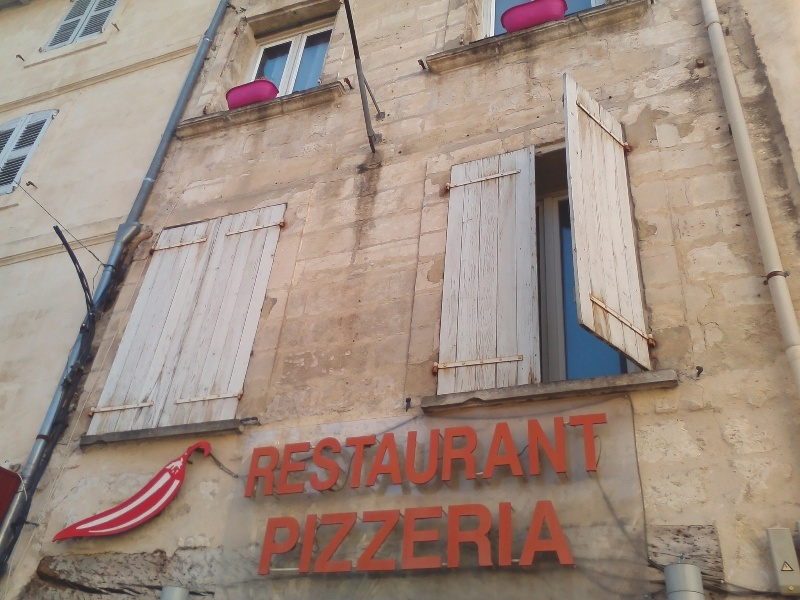text: (257, 409, 272, 502), (273, 409, 288, 502), (289, 409, 304, 502), (305, 409, 320, 502), (321, 409, 336, 502), (337, 409, 352, 502), (353, 409, 368, 502), (369, 409, 384, 502), (385, 409, 400, 502), (401, 409, 416, 502), (417, 409, 432, 502), (433, 409, 448, 502), (449, 409, 464, 502), (465, 409, 480, 502), (481, 409, 496, 502), (497, 409, 512, 502), (513, 409, 528, 502), (529, 409, 544, 502), (545, 409, 560, 502), (561, 409, 576, 502), (577, 409, 592, 502), (593, 409, 608, 502), (273, 496, 288, 578), (289, 496, 304, 578), (305, 496, 320, 578), (321, 496, 336, 578), (337, 496, 352, 578), (353, 496, 368, 578), (369, 496, 384, 578), (385, 496, 400, 578), (401, 496, 416, 578), (417, 496, 432, 578), (433, 496, 448, 578), (449, 496, 464, 578), (465, 496, 480, 578), (481, 496, 496, 578), (497, 496, 512, 578), (513, 496, 528, 578), (529, 496, 544, 578), (545, 496, 560, 578), (561, 496, 576, 578), (248, 409, 256, 502), (266, 496, 272, 578), (577, 496, 581, 578), (609, 409, 611, 502)
